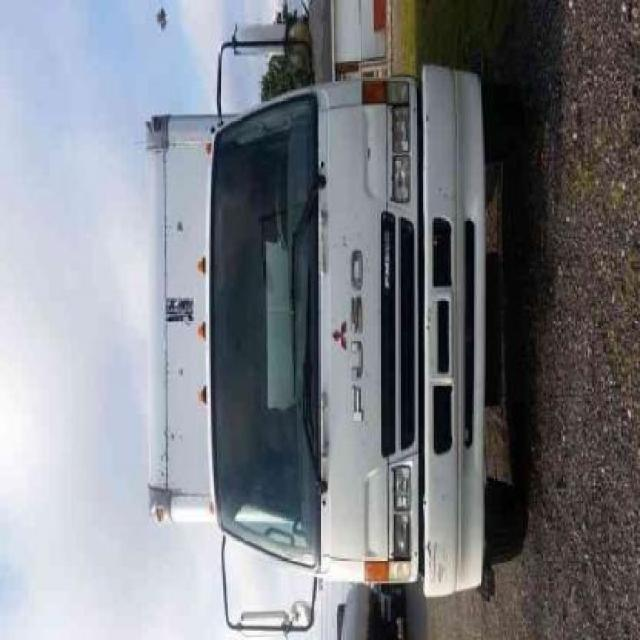truck: (143, 21, 526, 639)
